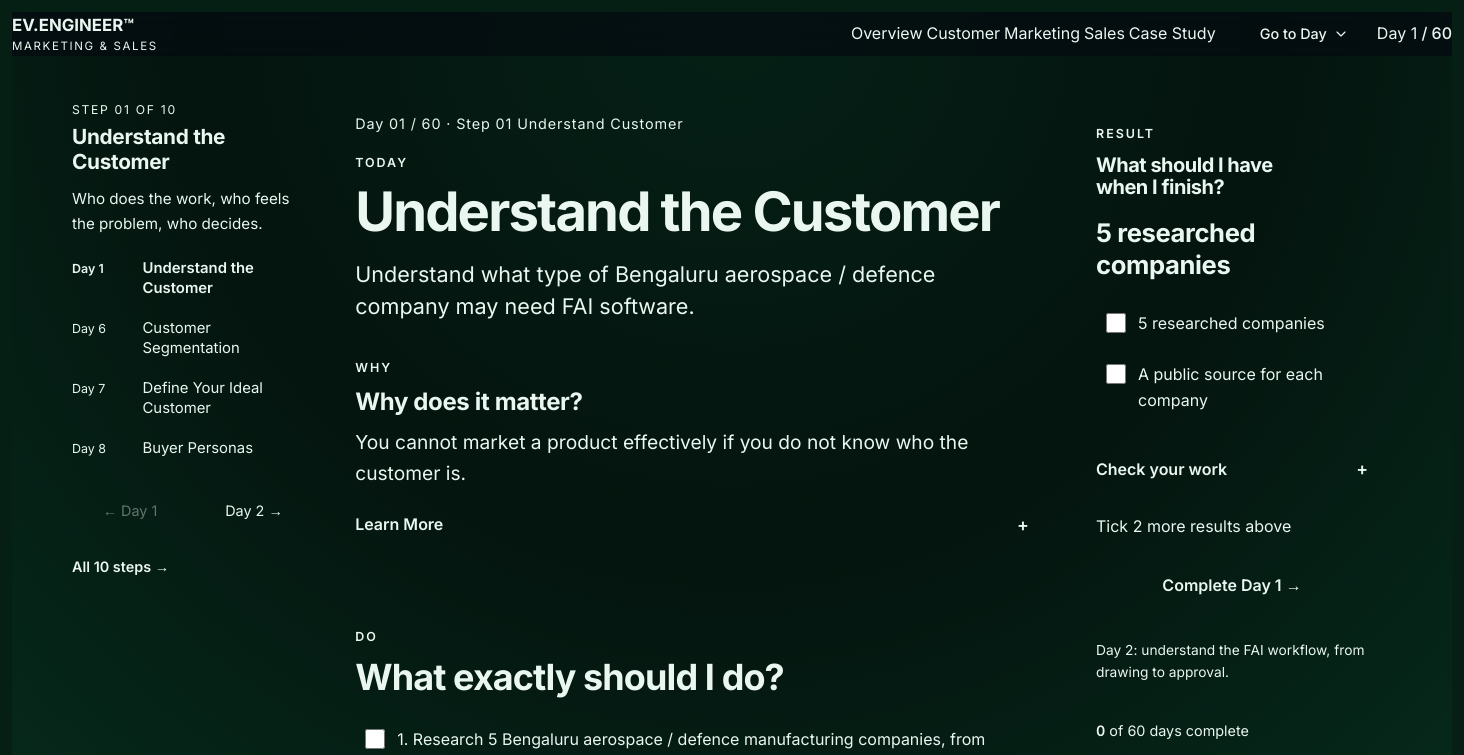
Test: Today: what do I do today? › completes a day only once its results are ticked, then offers the next
The image size is (1464, 755).
Click the checkbox labelled "5 researched companies".
click(1116, 323)  # box [1106,313,1126,333]
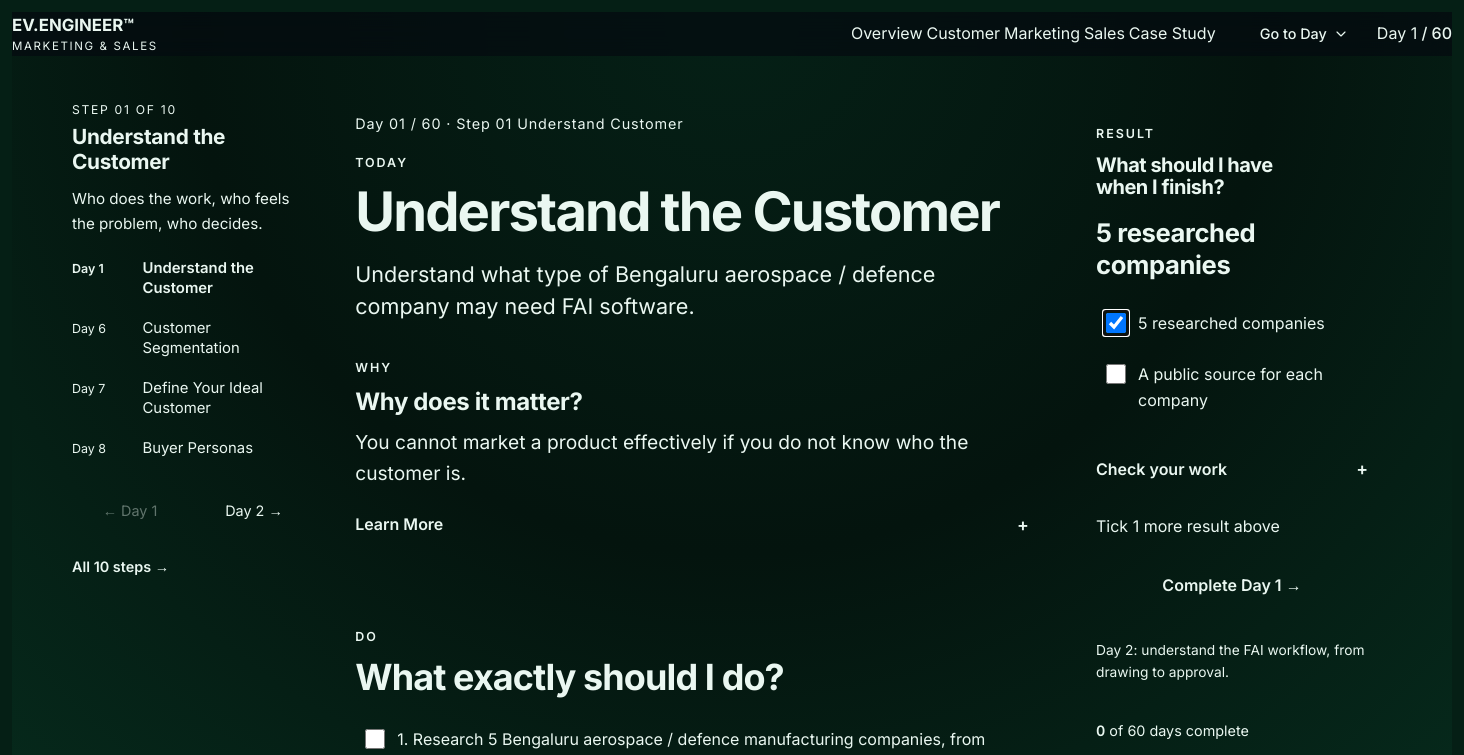
Click the checkbox labelled "A public source for each company".
click(1116, 374)  # box [1106,364,1126,384]
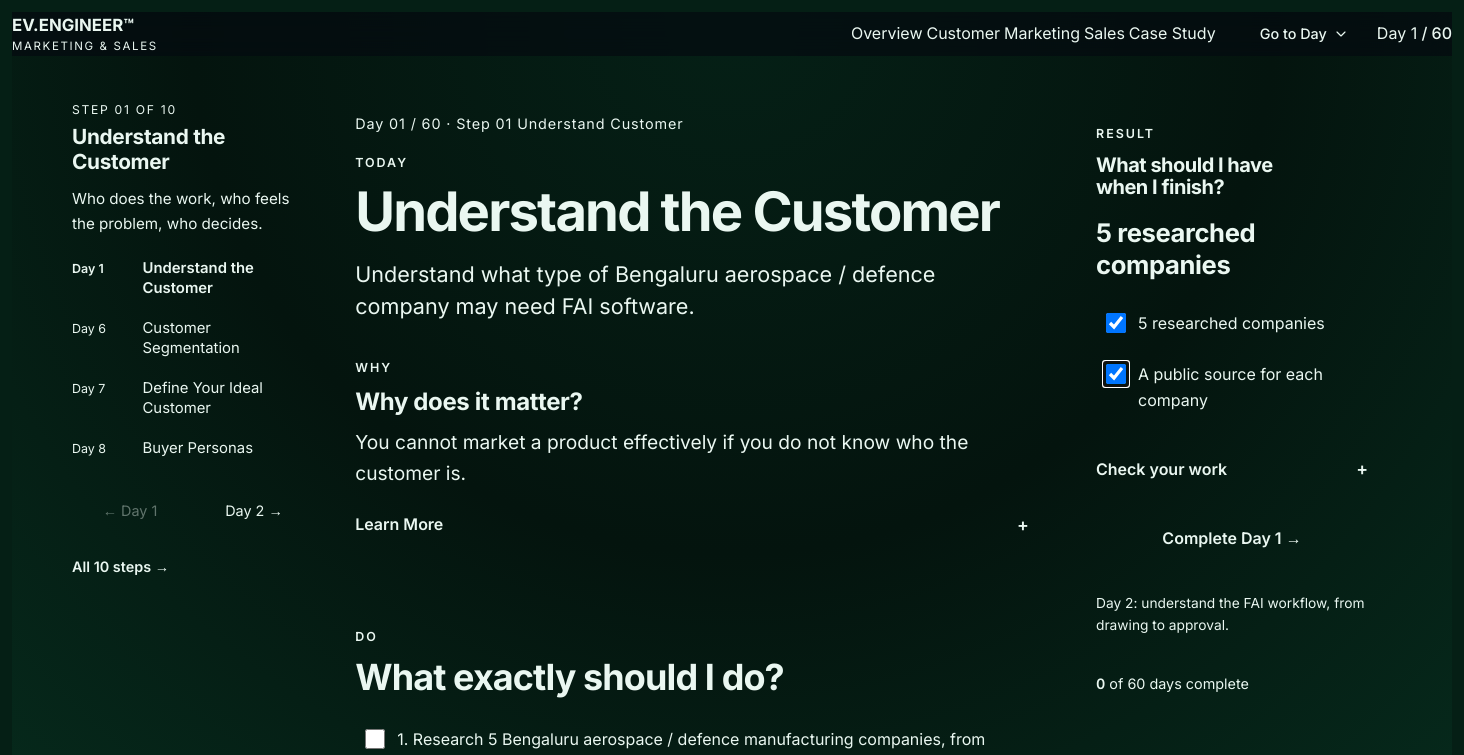
Click the button "Complete Day 1 →".
click(1232, 538)  # box [1096,514,1368,564]
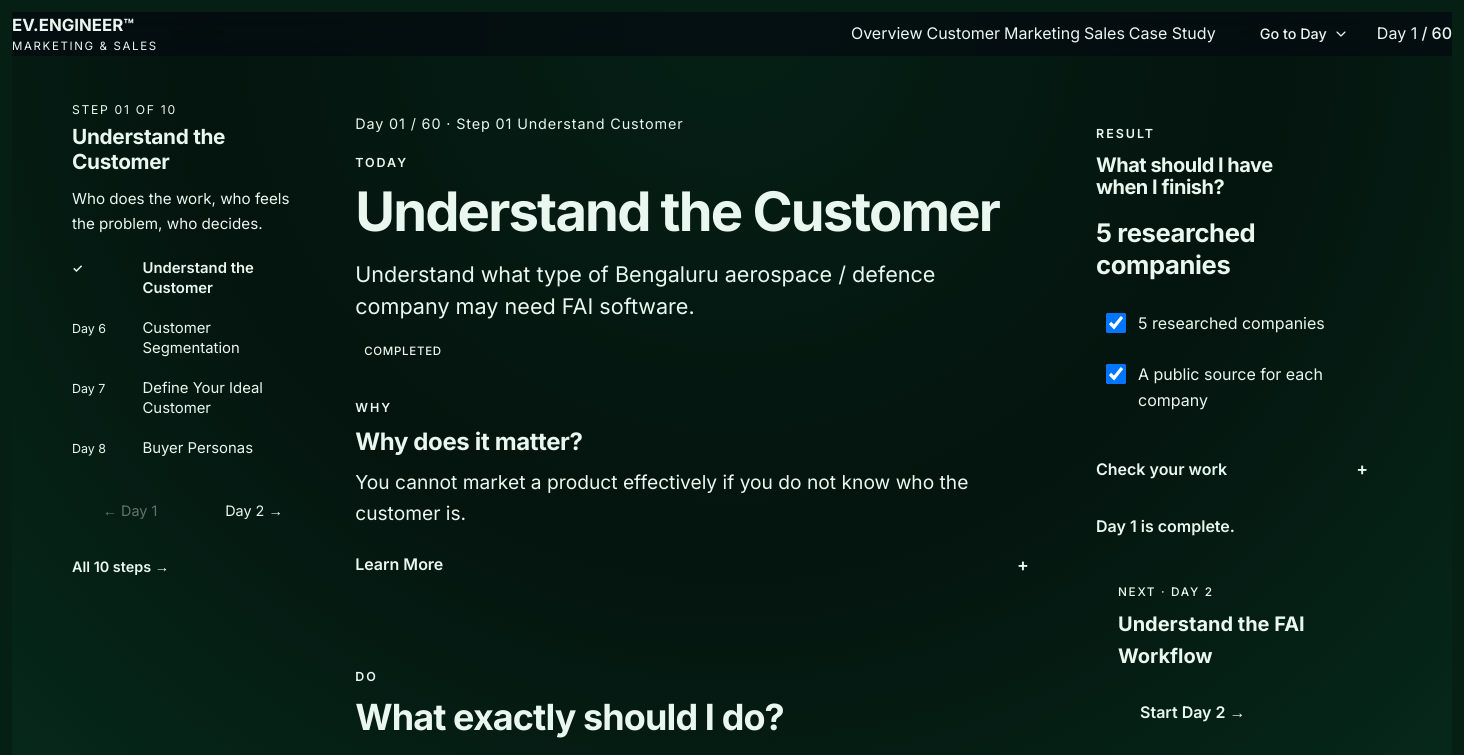
expect the text "Day 1 is complete." is shown: met, box [1096,516,1235,536]
Click the button "Start Day 2 →".
click(1193, 713)  # box [1118,688,1268,738]
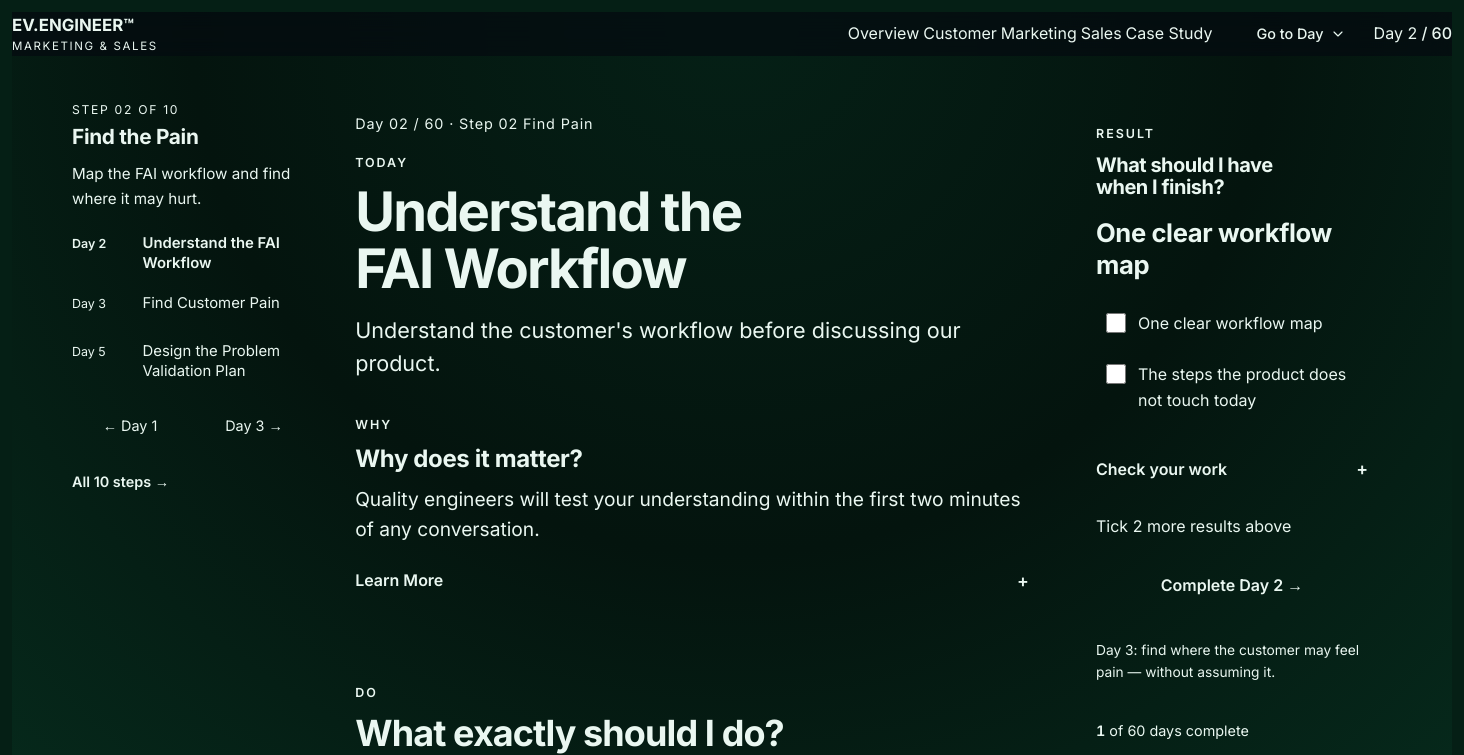
expect the heading "Understand the FAI Workflow" is shown: met, box [355,178,741,301]
